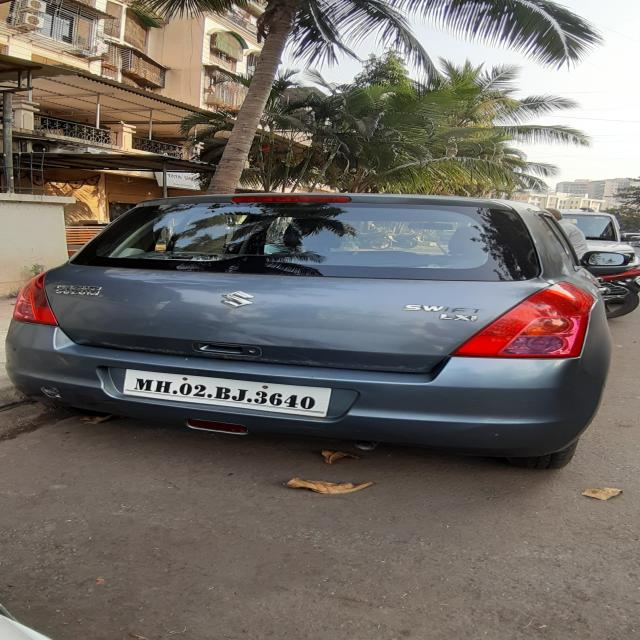Number-Plate: (119, 371, 327, 416)
